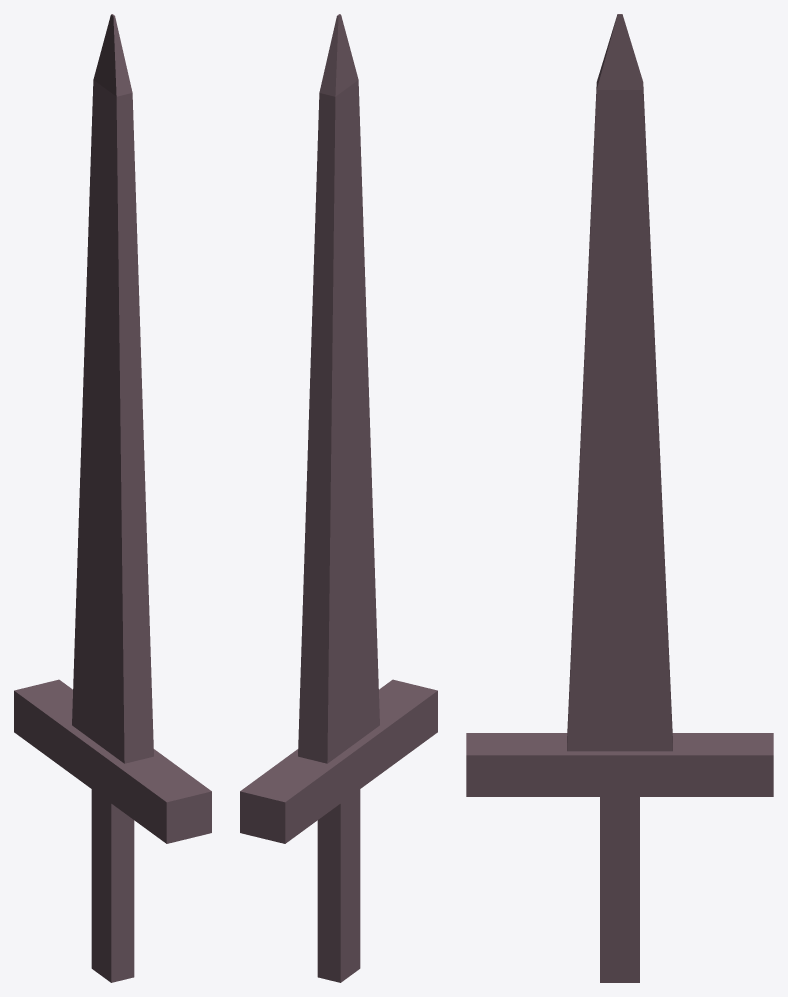
File: sword.fbx
3 renders of one model, left to right at view 1: azimuth 30°, elevation 25°; view 2: azimuth 150°, elevation 25°; view 3: azimuth 270°, elevation 25°, orthographic.
Parts seen in each view (by area): view 1: Cube; view 2: Cube; view 3: Cube.
Boxes of the visible parts, left/top/right/bottom form: Cube: left=14, top=14, right=211, bottom=982; Cube: left=240, top=14, right=437, bottom=982; Cube: left=466, top=14, right=773, bottom=982.
Size of the model in its own units: 13.16 by 267 by 77.06.
